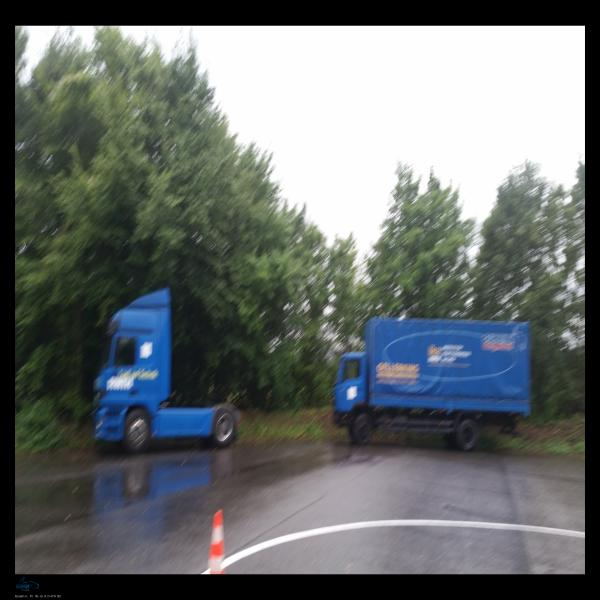large_orange_cone: (207, 510, 226, 574)
